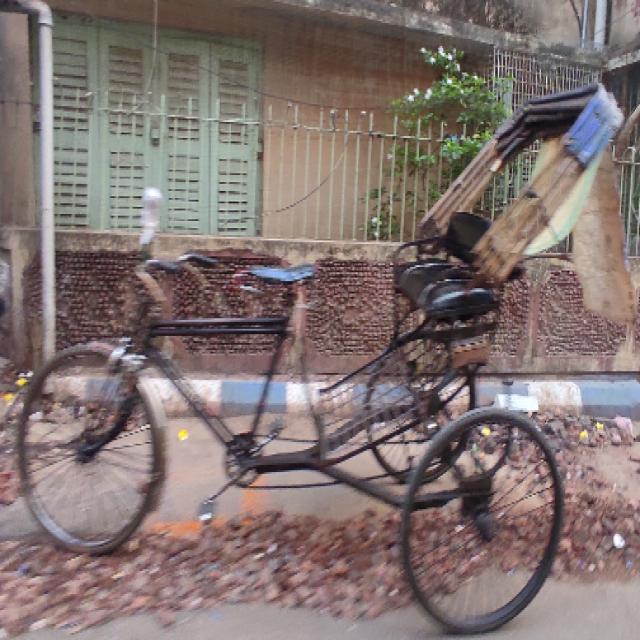rickshaw: (16, 83, 631, 620)
